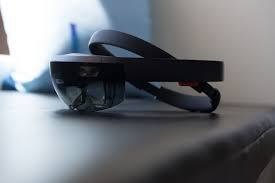hololens: (49, 27, 227, 119)
